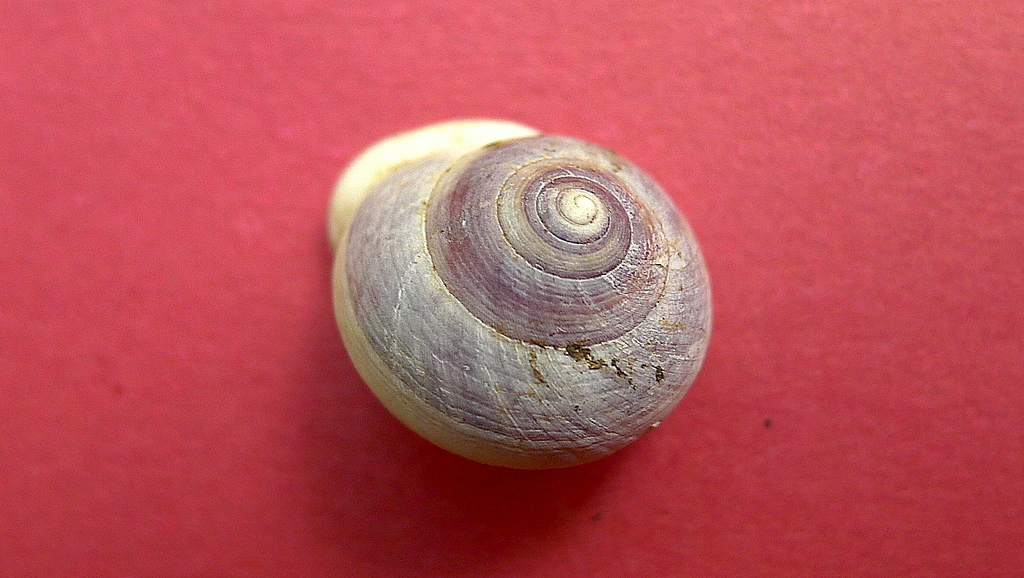Animal: (330, 117, 708, 468)
